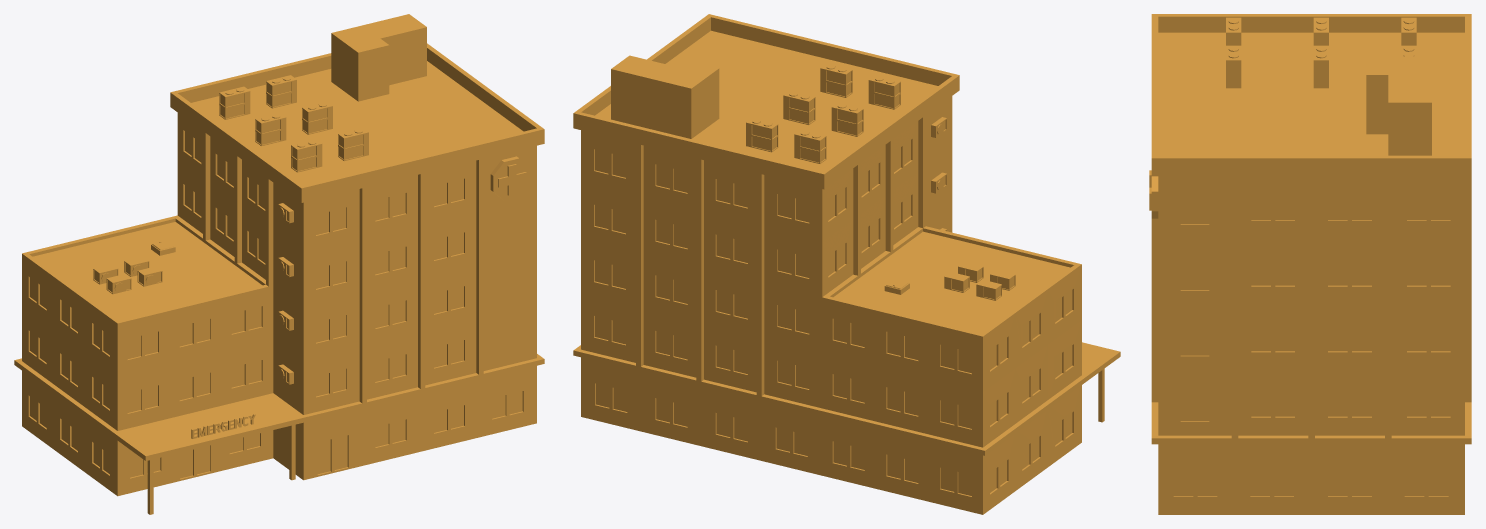
File: building-hospital.fbx
The picture shows the model from 3 angles, left to right: view 1: azimuth 30°, elevation 25°; view 2: azimuth 150°, elevation 25°; view 3: azimuth 270°, elevation 25°; orthographic projection. The views are drawn at different scales.
Parts seen in each view (by area): view 1: building-hospital; view 2: building-hospital; view 3: building-hospital.
Boxes of the visible parts, x1,y1,x2,y2 form: building-hospital: [14, 14, 544, 514]; building-hospital: [573, 14, 1120, 514]; building-hospital: [1149, 14, 1471, 514].
Size of the model in its own units: 25.6 by 20.3 by 14.7.
